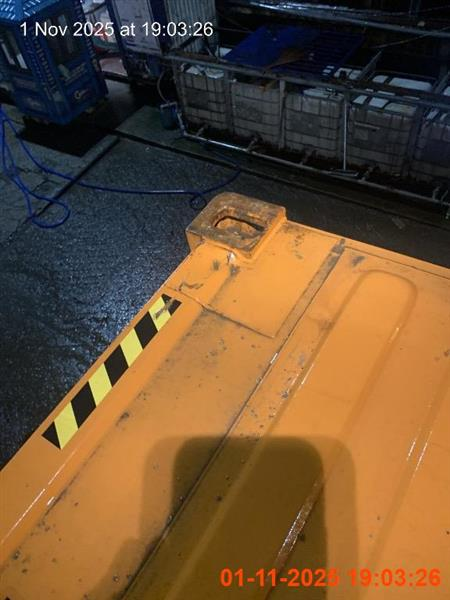weld_damage: (0, 190, 448, 599)
